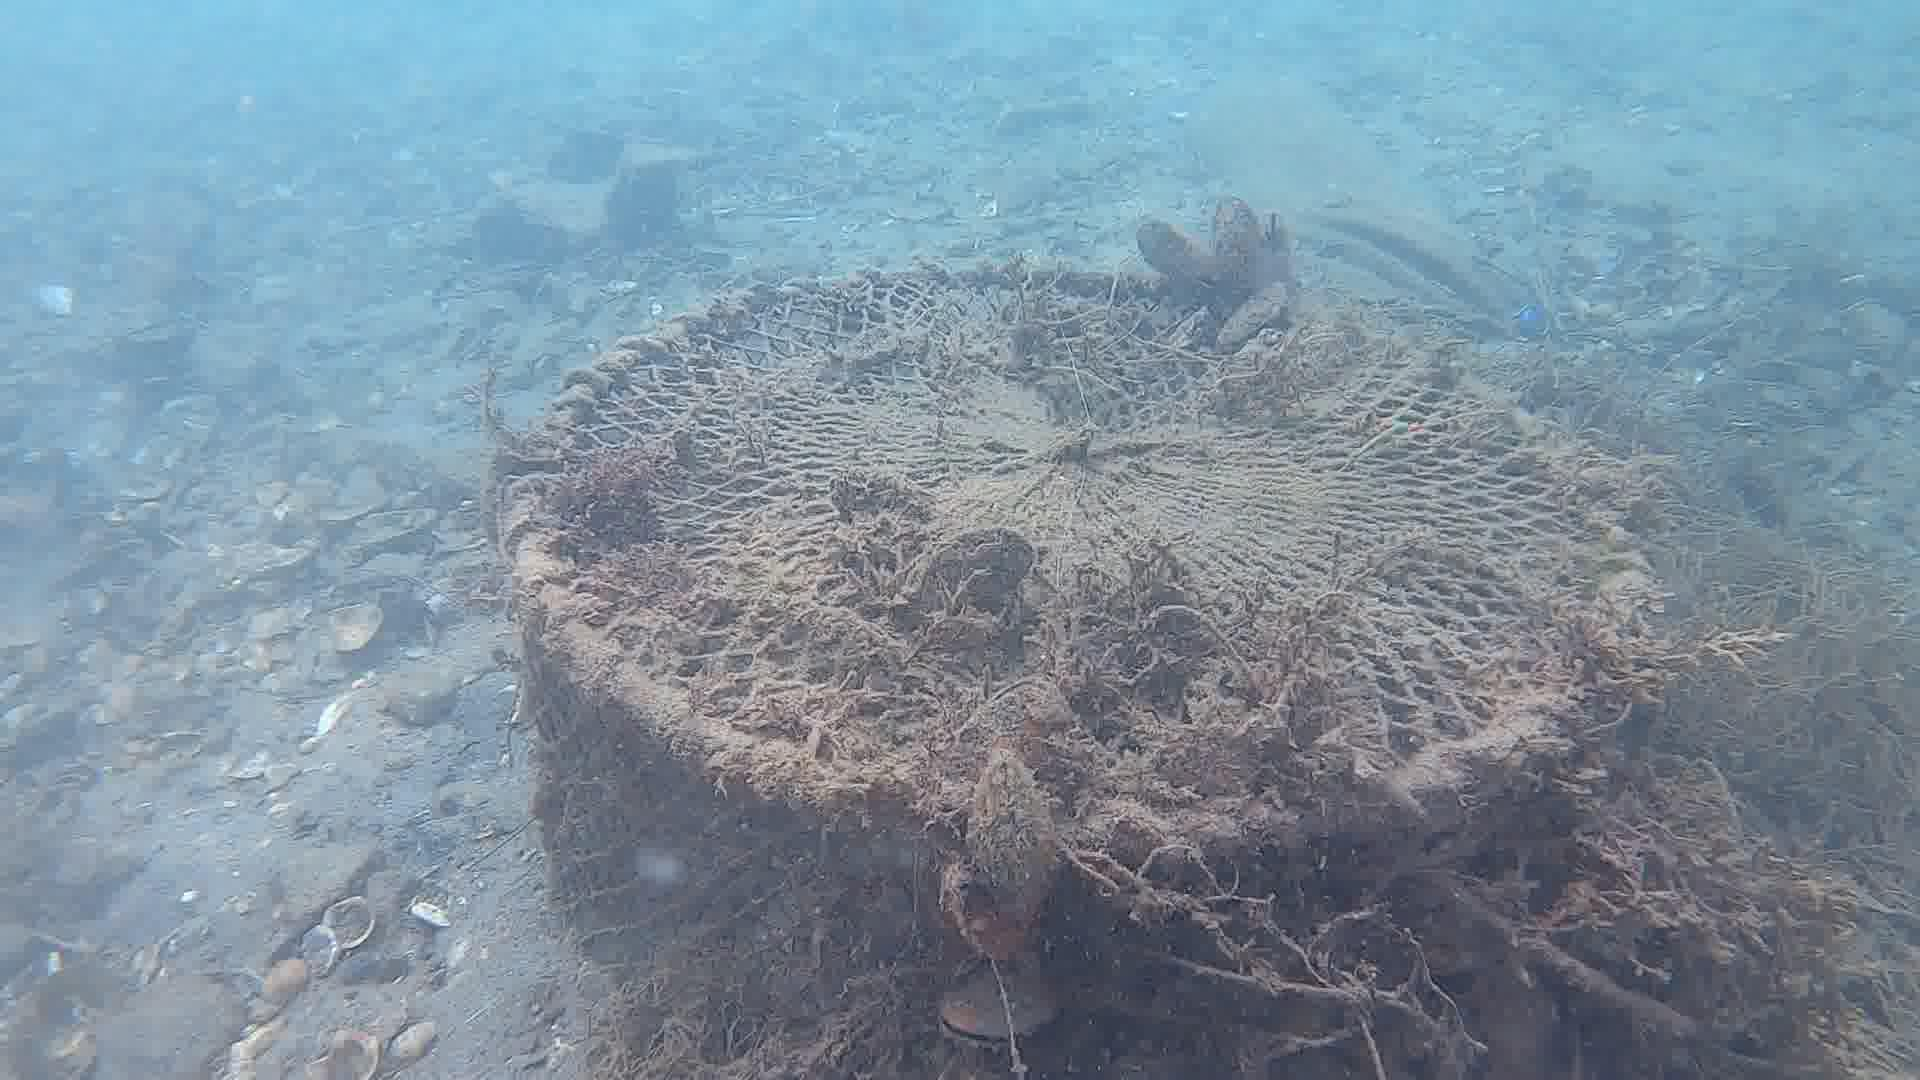circular fish trap: (506, 262, 1650, 1080)
